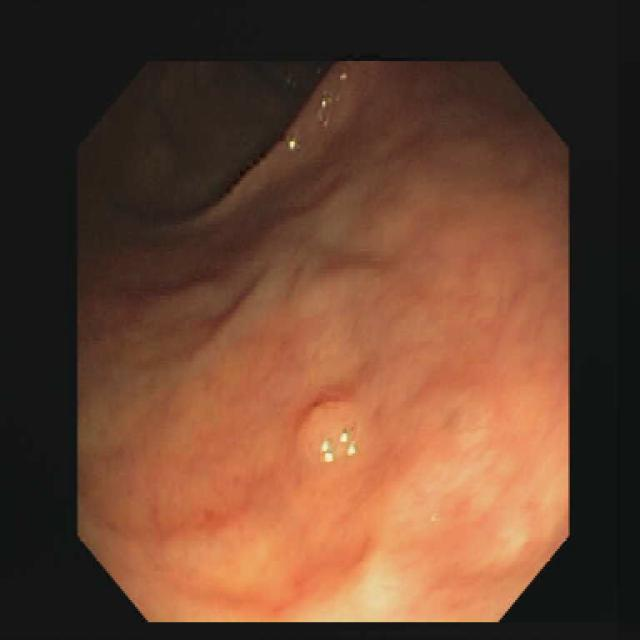tumor: (297, 393, 362, 462)
